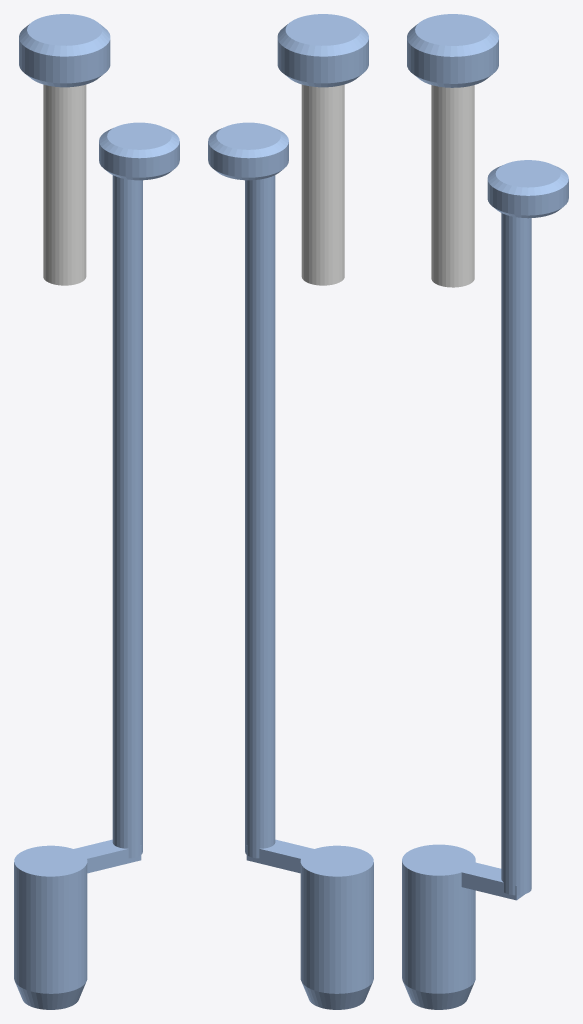
The model's file is micropipette.glb.
The picture shows the model from 3 angles, left to right: view 1: azimuth 30°, elevation 25°; view 2: azimuth 150°, elevation 25°; view 3: azimuth 330°, elevation 25°; orthographic projection.
Parts seen in each view (by area): view 1: ejector_rod, ejector_sleeve, plunger_shaft, plunger_button, ejector_button, ejector_arm; view 2: ejector_rod, ejector_sleeve, plunger_shaft, plunger_button, ejector_button, ejector_arm; view 3: ejector_rod, ejector_sleeve, plunger_shaft, plunger_button, ejector_button, ejector_arm.
Part boxes in pixels (left/top/right/bottom): ejector_rod: left=112, top=175, right=142, bottom=858; ejector_sleeve: left=14, top=845, right=87, bottom=1009; plunger_shaft: left=43, top=84, right=86, bottom=285; plunger_button: left=19, top=14, right=110, bottom=87; ejector_button: left=99, top=122, right=179, bottom=180; ejector_arm: left=55, top=839, right=141, bottom=873; ejector_rod: left=245, top=175, right=275, bottom=858; ejector_sleeve: left=300, top=845, right=373, bottom=1009; plunger_shaft: left=301, top=84, right=344, bottom=285; plunger_button: left=277, top=14, right=368, bottom=87; ejector_button: left=208, top=122, right=288, bottom=180; ejector_arm: left=246, top=839, right=332, bottom=873; ejector_rod: left=501, top=213, right=531, bottom=895; ejector_sleeve: left=402, top=844, right=475, bottom=1009; plunger_shaft: left=431, top=85, right=474, bottom=287; plunger_button: left=407, top=14, right=498, bottom=87; ejector_button: left=487, top=160, right=568, bottom=218; ejector_arm: left=425, top=854, right=524, bottom=900.
Size of the model in its own units: 0.0333 by 0.1975 by 0.017.
